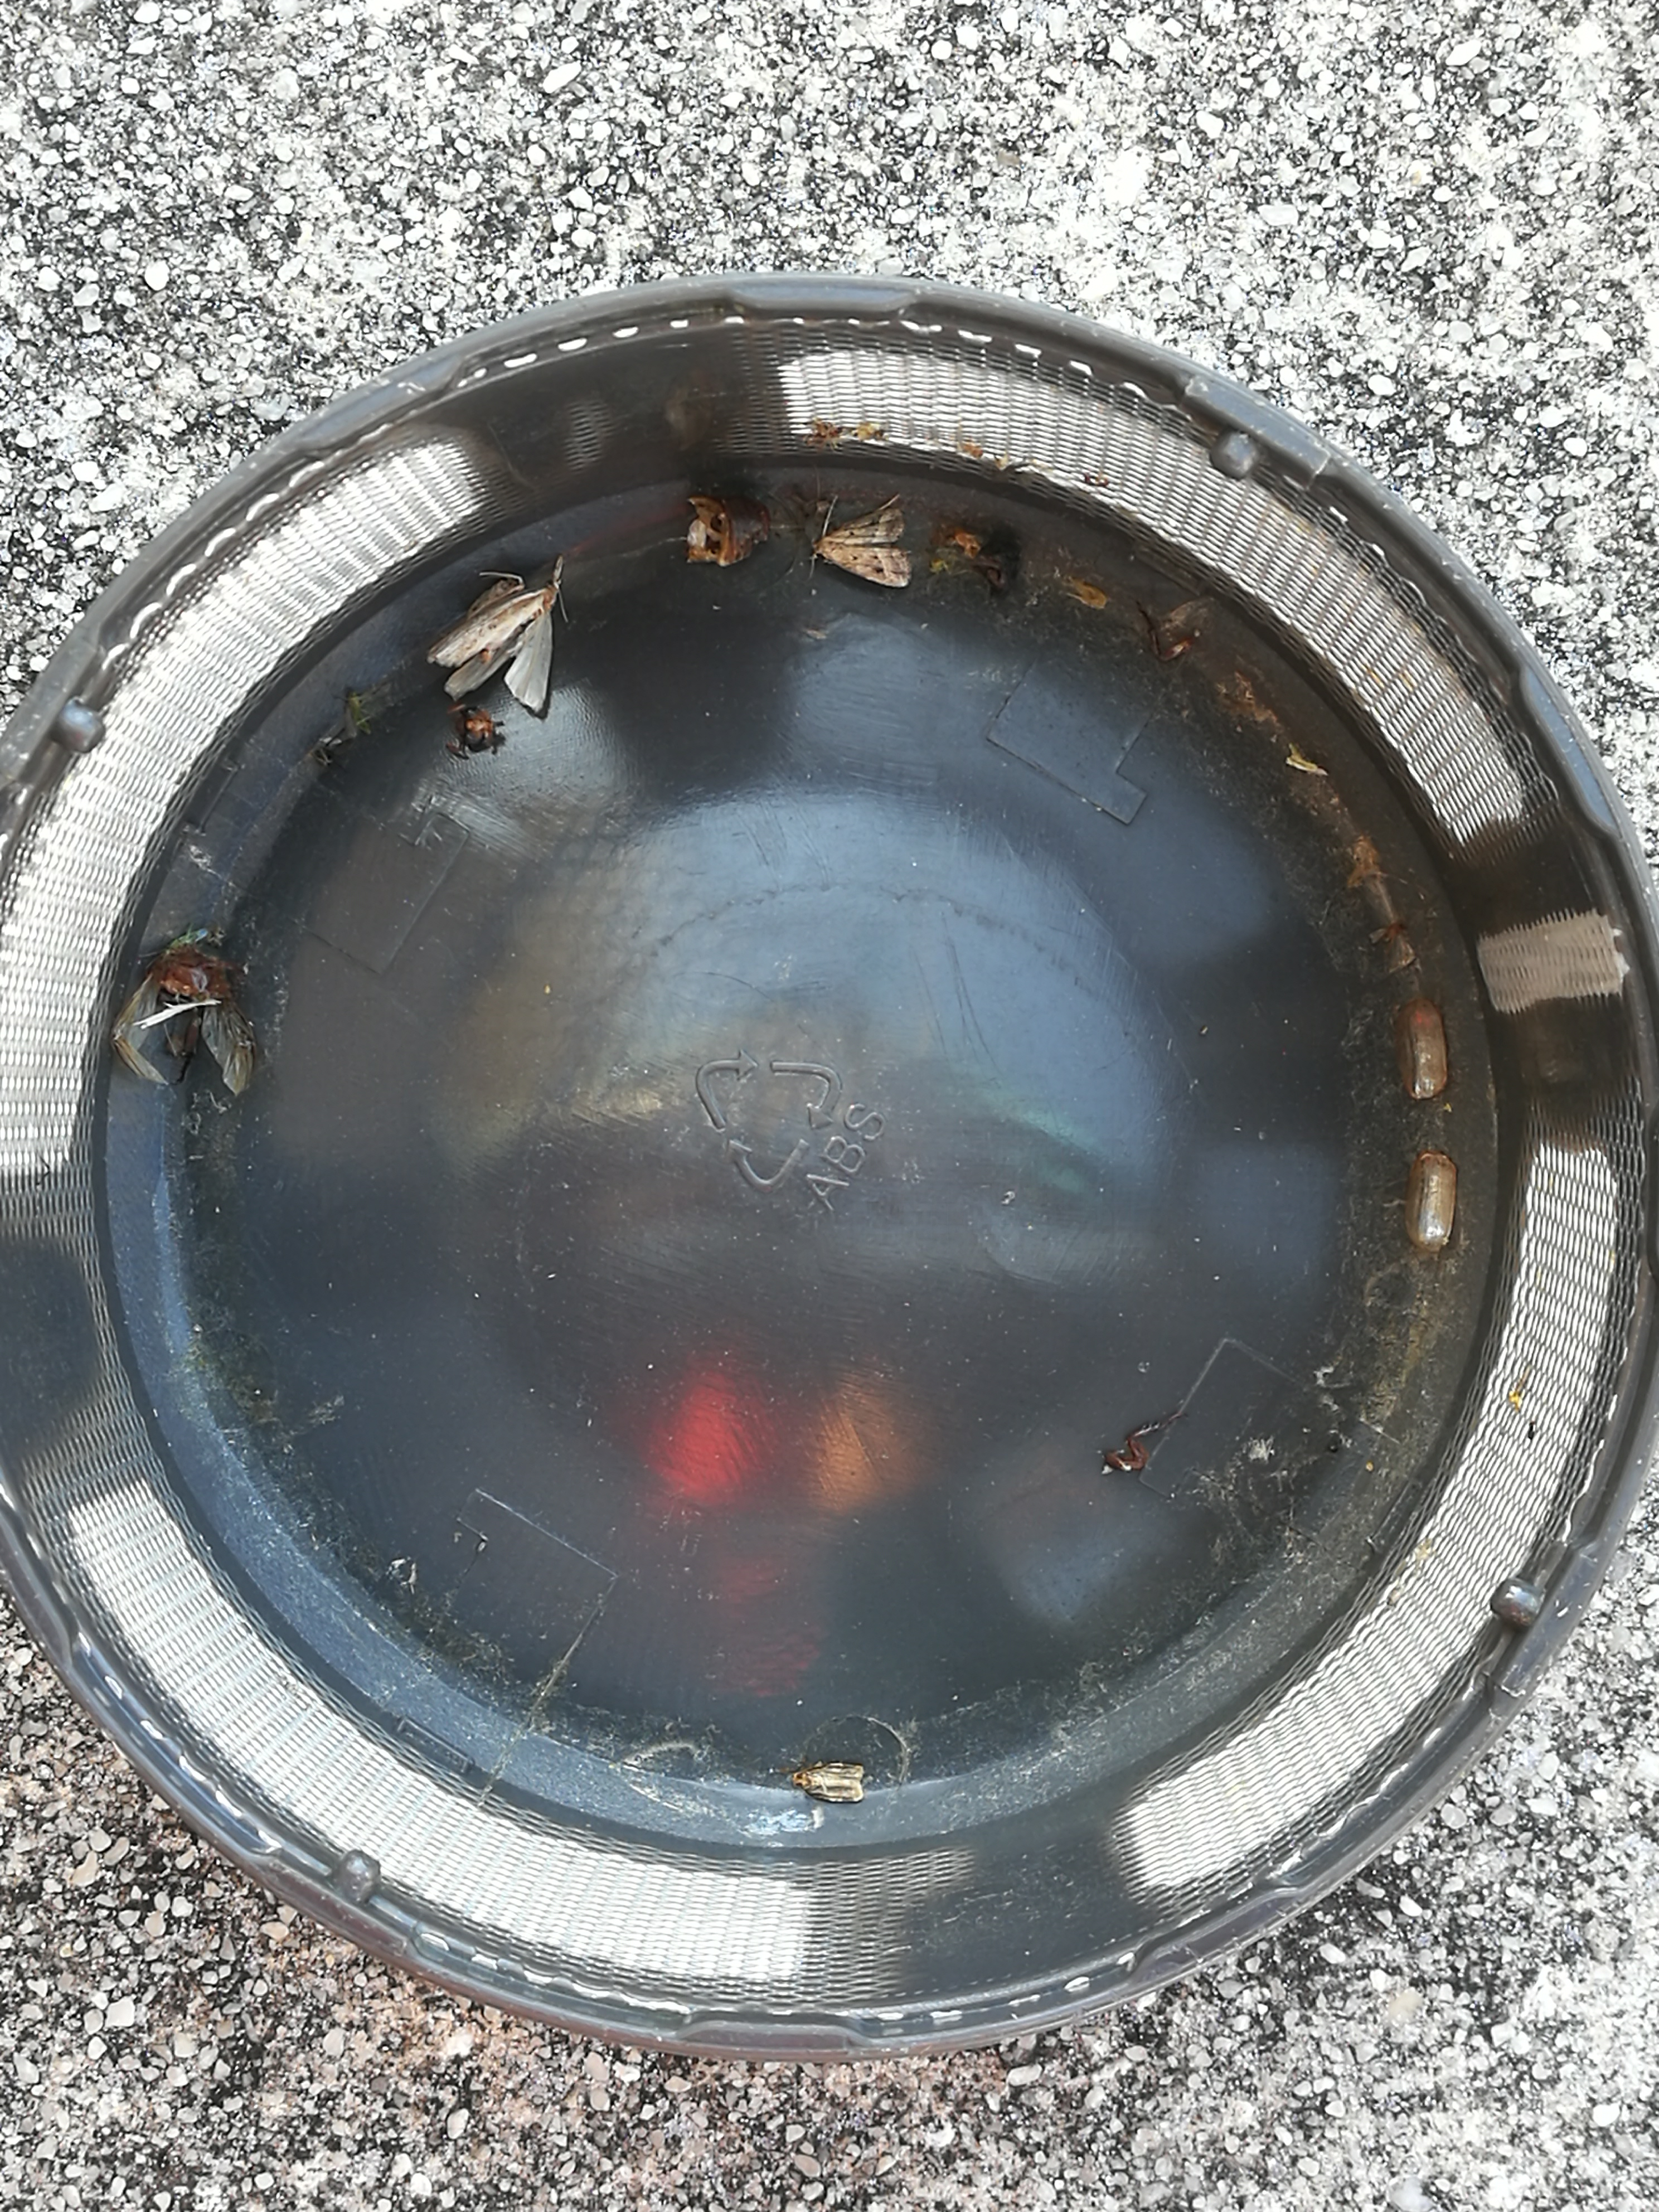beetle: (146, 948, 230, 1008)
mosquito: (469, 575, 519, 618)
moth: (427, 583, 556, 714), (812, 507, 913, 585), (791, 1761, 864, 1803)
